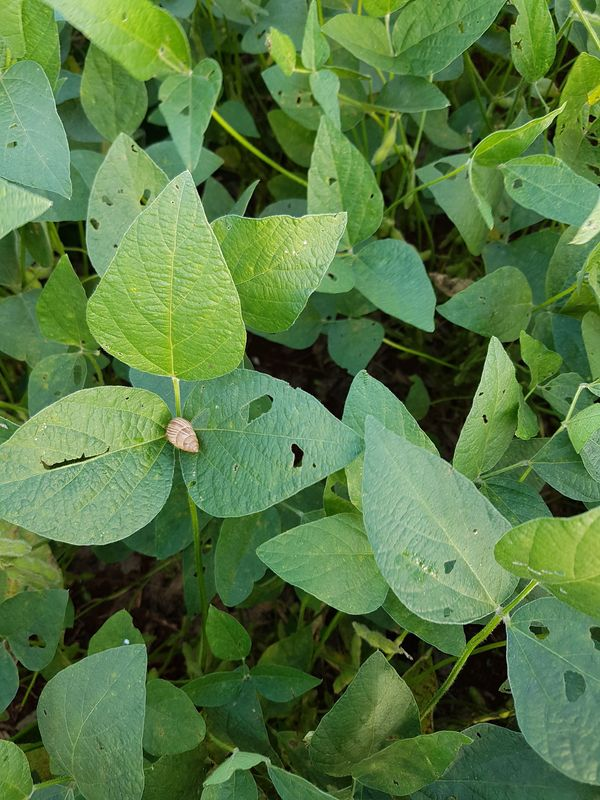Gastropoda: (154, 410, 214, 460)
